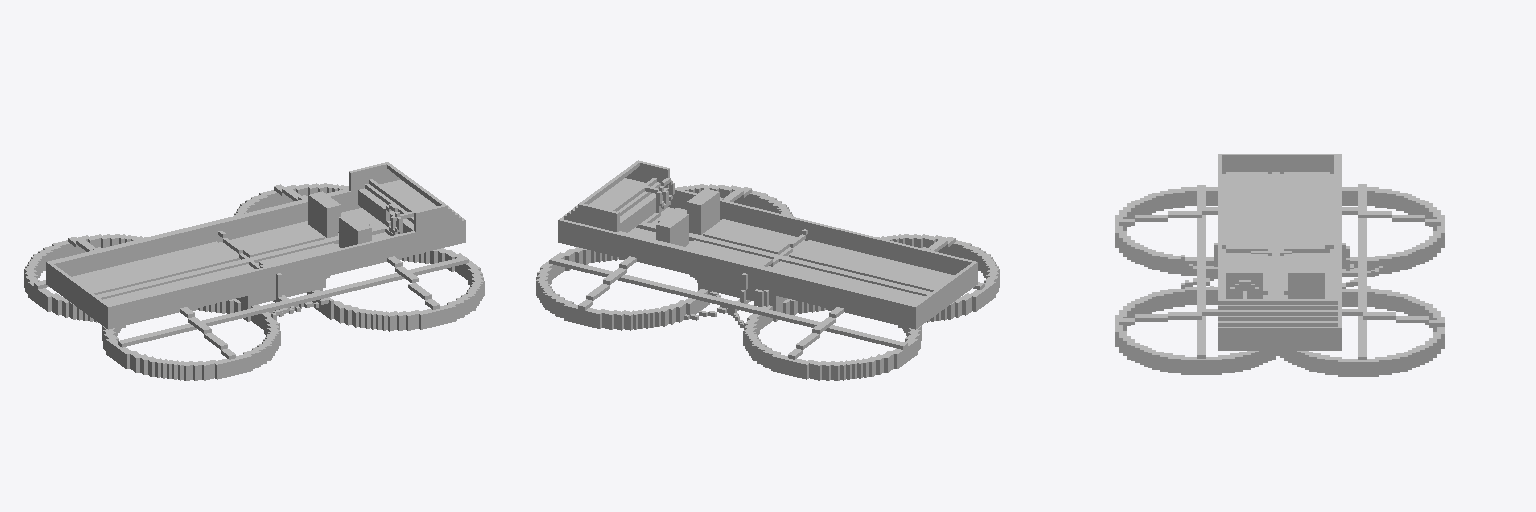
Rendered from Bad Car.vox.obj.
3 views of the same model, side by side, from view 1: azimuth 30°, elevation 25°; view 2: azimuth 150°, elevation 25°; view 3: azimuth 270°, elevation 25° (orthographic).
Parts seen in each view (by area): view 1: object 1; view 2: object 1; view 3: object 1.
Boxes of the visible parts, x1,y1,x2,y2 form: object 1: [24, 162, 484, 380]; object 1: [536, 160, 999, 380]; object 1: [1115, 154, 1444, 376].
Bounding box in the file's own units: 10 × 1.8 × 8.